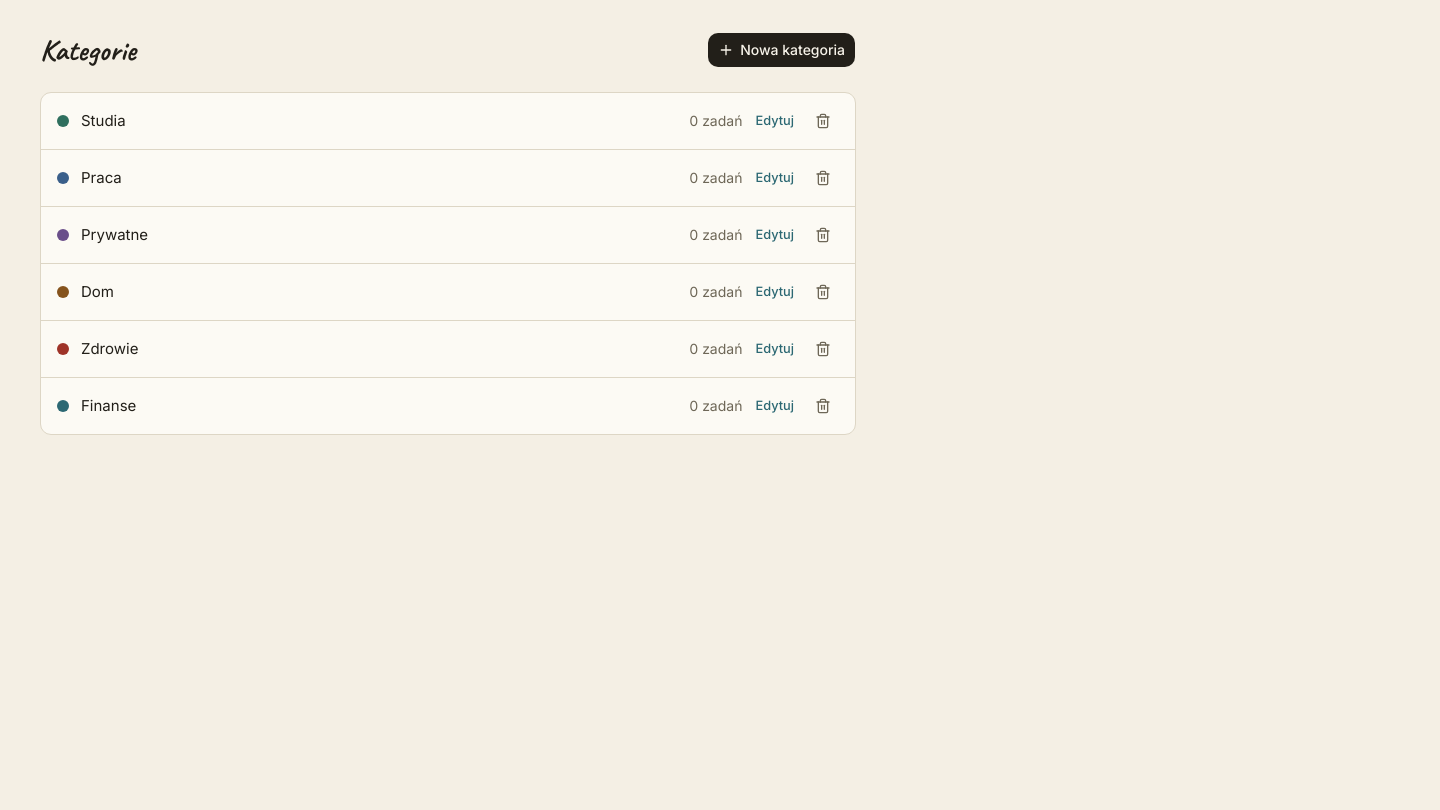
Scenario: CategoriesPage (P-H) › usuwa kategorię z potwierdzeniem
Click the button named "Usuń kategorię Finanse": (823, 406) left=807, top=390, right=839, bottom=422
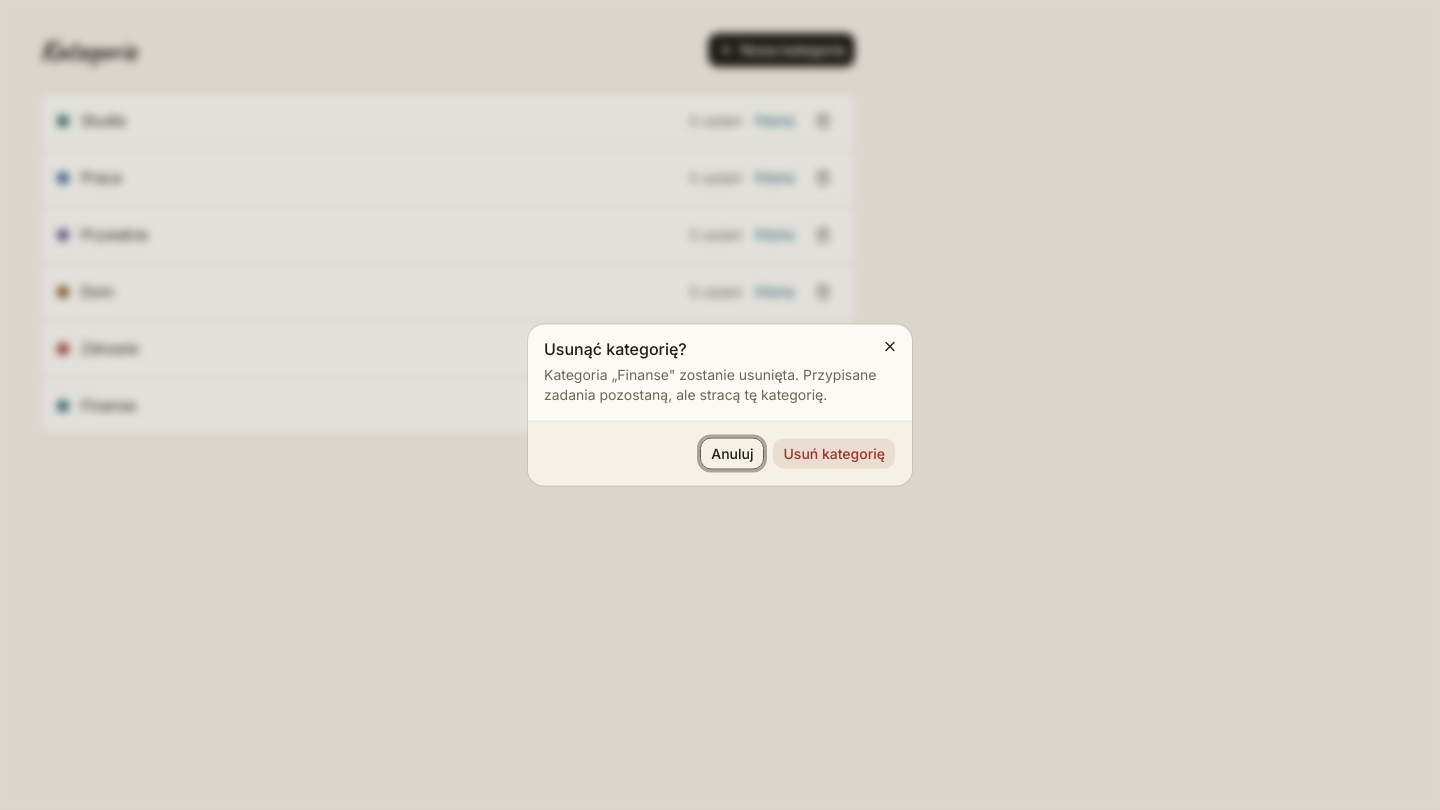
Click the button "Usuń kategorię": (834, 454) left=772, top=438, right=896, bottom=470
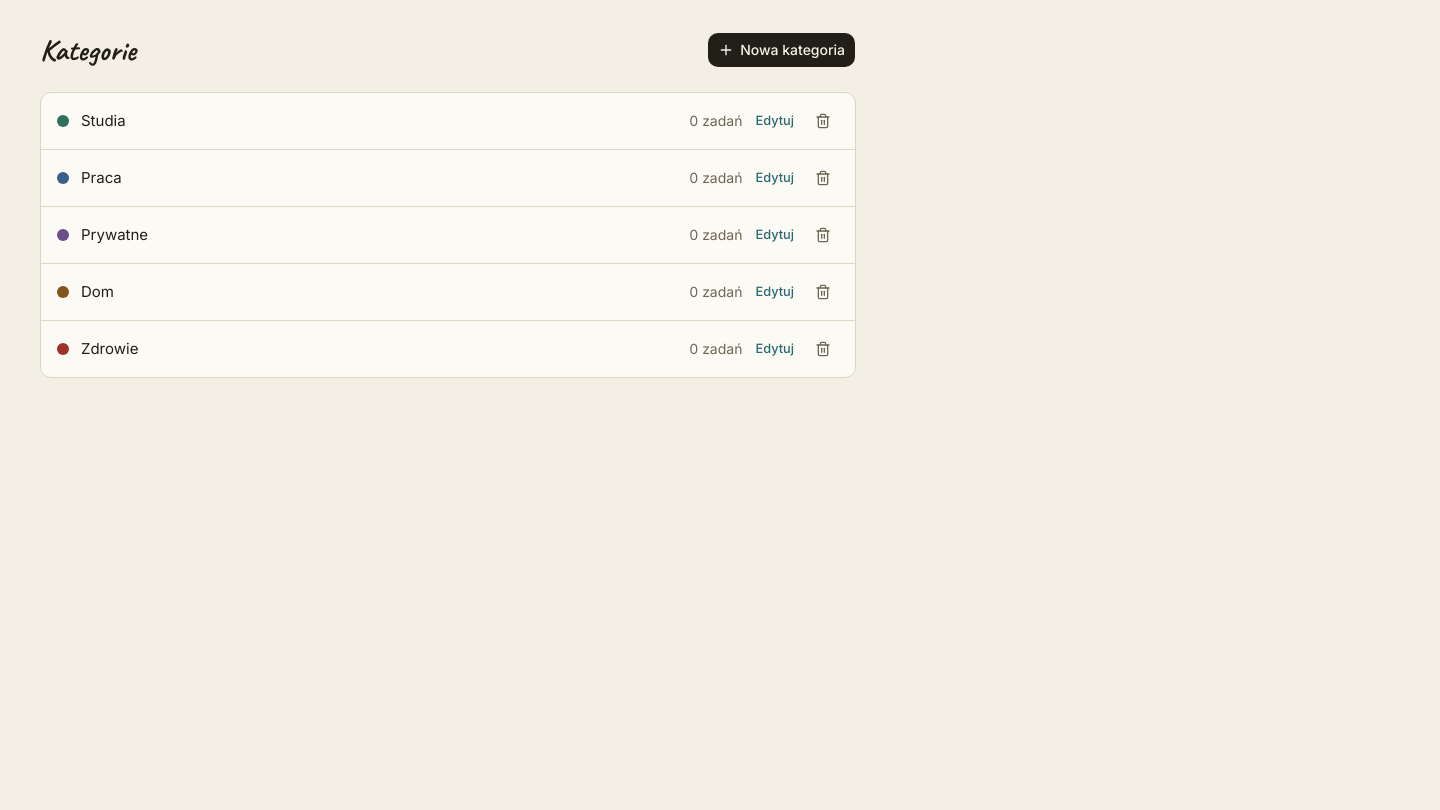
Result: the text "Finanse" is gone
